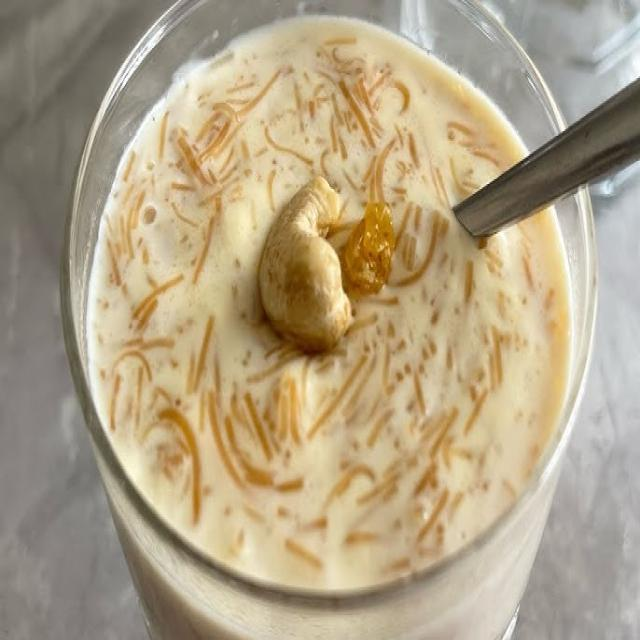shavige payasa: (71, 0, 584, 608)
